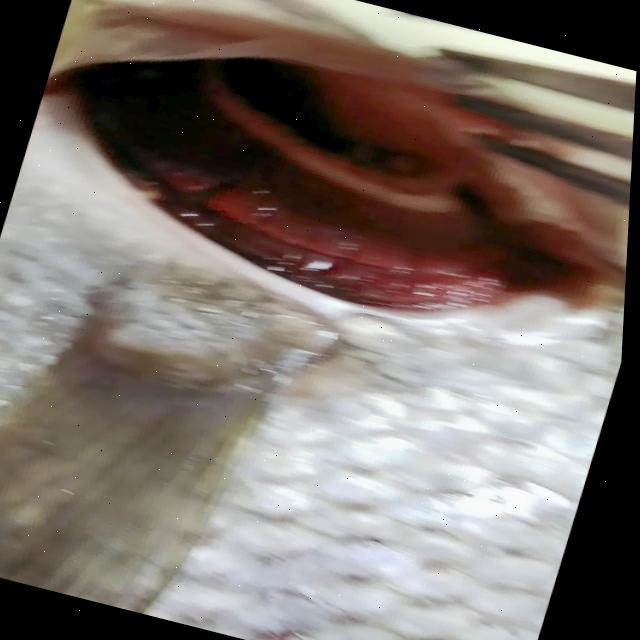Fresh: (13, 0, 628, 364)
